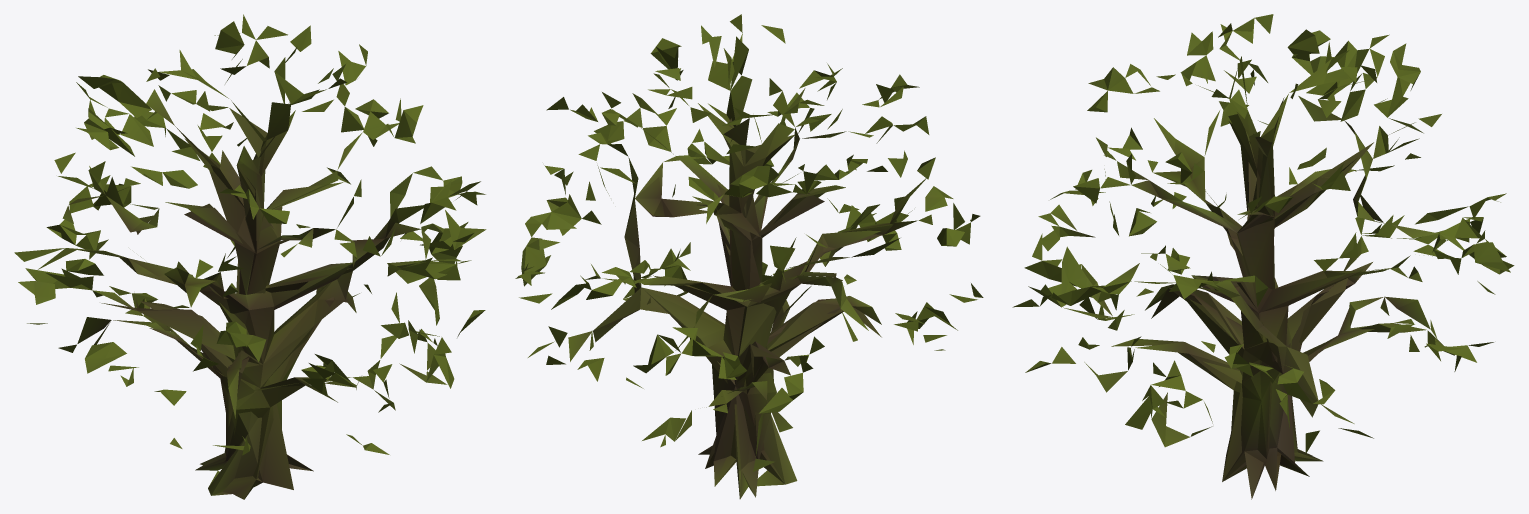
The model's file is lib_tp_soi.vc2.glb.
3 views of the same model, side by side, from view 1: azimuth 30°, elevation 25°; view 2: azimuth 150°, elevation 25°; view 3: azimuth 270°, elevation 25° (orthographic).
Visible parts, largest first — view 1: lib_tp_soi; view 2: lib_tp_soi; view 3: lib_tp_soi.
Boxes of the visible parts, x1,y1,x2,y2 form: lib_tp_soi: [14, 14, 486, 499]; lib_tp_soi: [515, 14, 983, 499]; lib_tp_soi: [1012, 14, 1514, 499].
Size of the model in its own units: 1.7 by 1.66 by 1.7.
